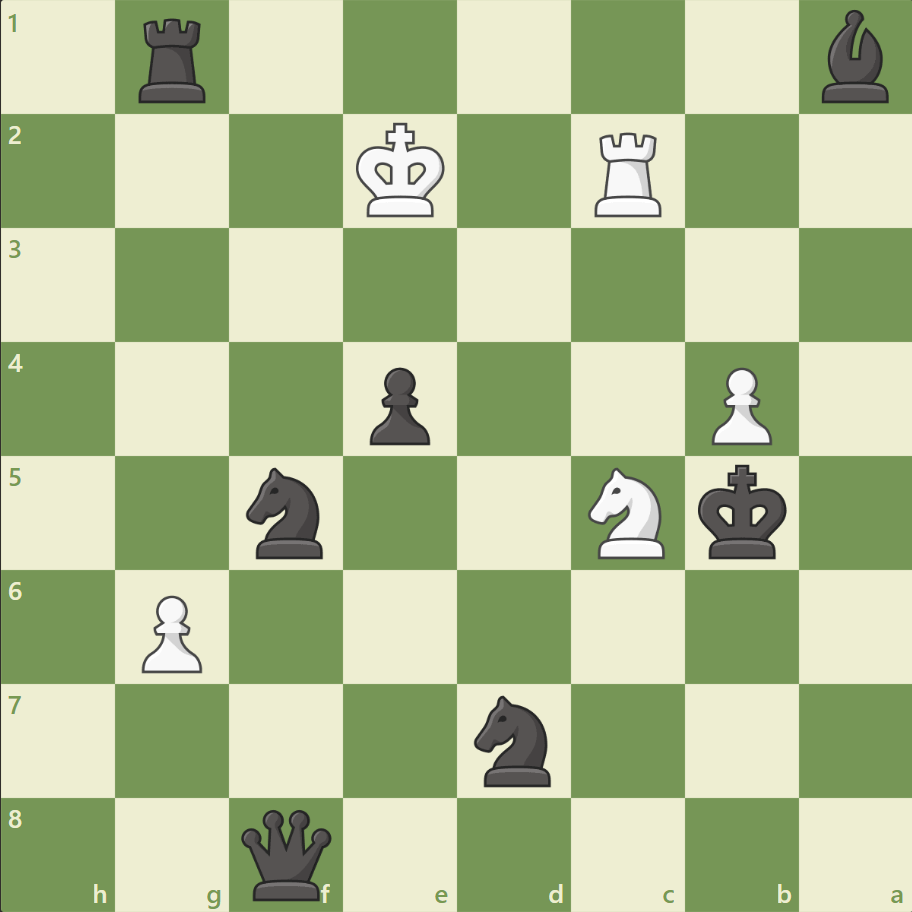K: (351, 117, 451, 225)
N: (579, 461, 676, 564)
P: (133, 586, 208, 677), (701, 359, 776, 450)
R: (587, 125, 670, 222)
b: (812, 6, 896, 109)
k: (692, 458, 792, 566)
n: (465, 688, 562, 791), (238, 461, 335, 564)
p: (361, 359, 435, 450)
q: (237, 804, 336, 903)
r: (133, 12, 215, 109)
